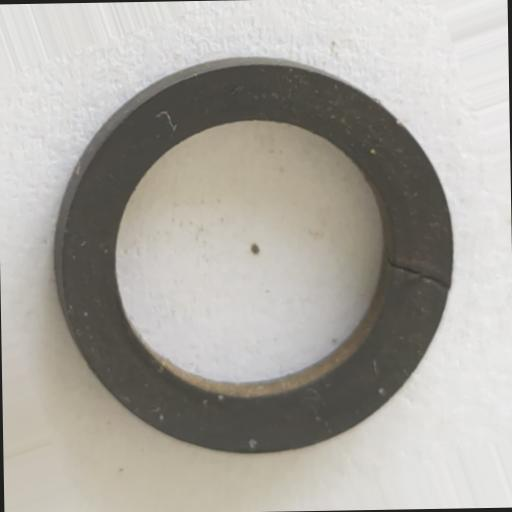defect: (386, 256, 450, 292)
